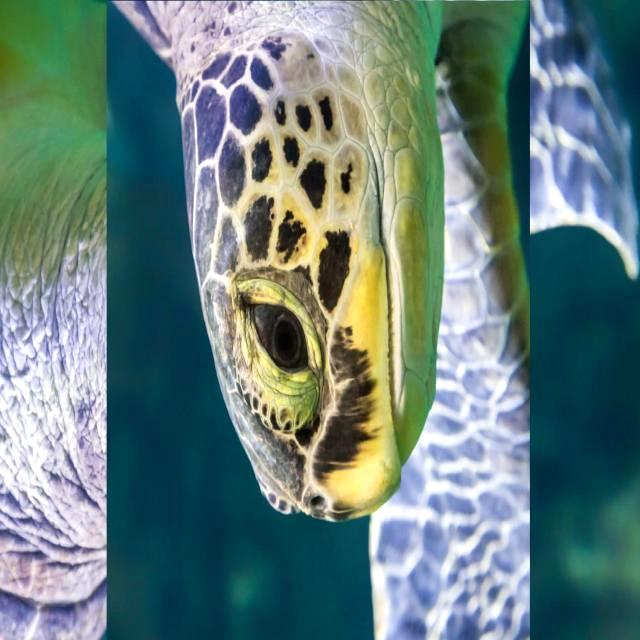Sea turtle: (53, 1, 584, 640)
